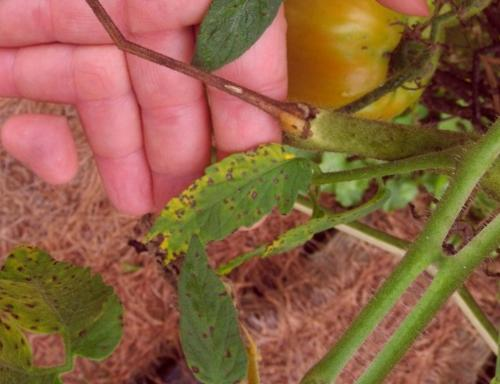Tomato Septoria leaf spot: (131, 99, 327, 307), (124, 226, 298, 384), (0, 221, 147, 379), (158, 0, 338, 88)
